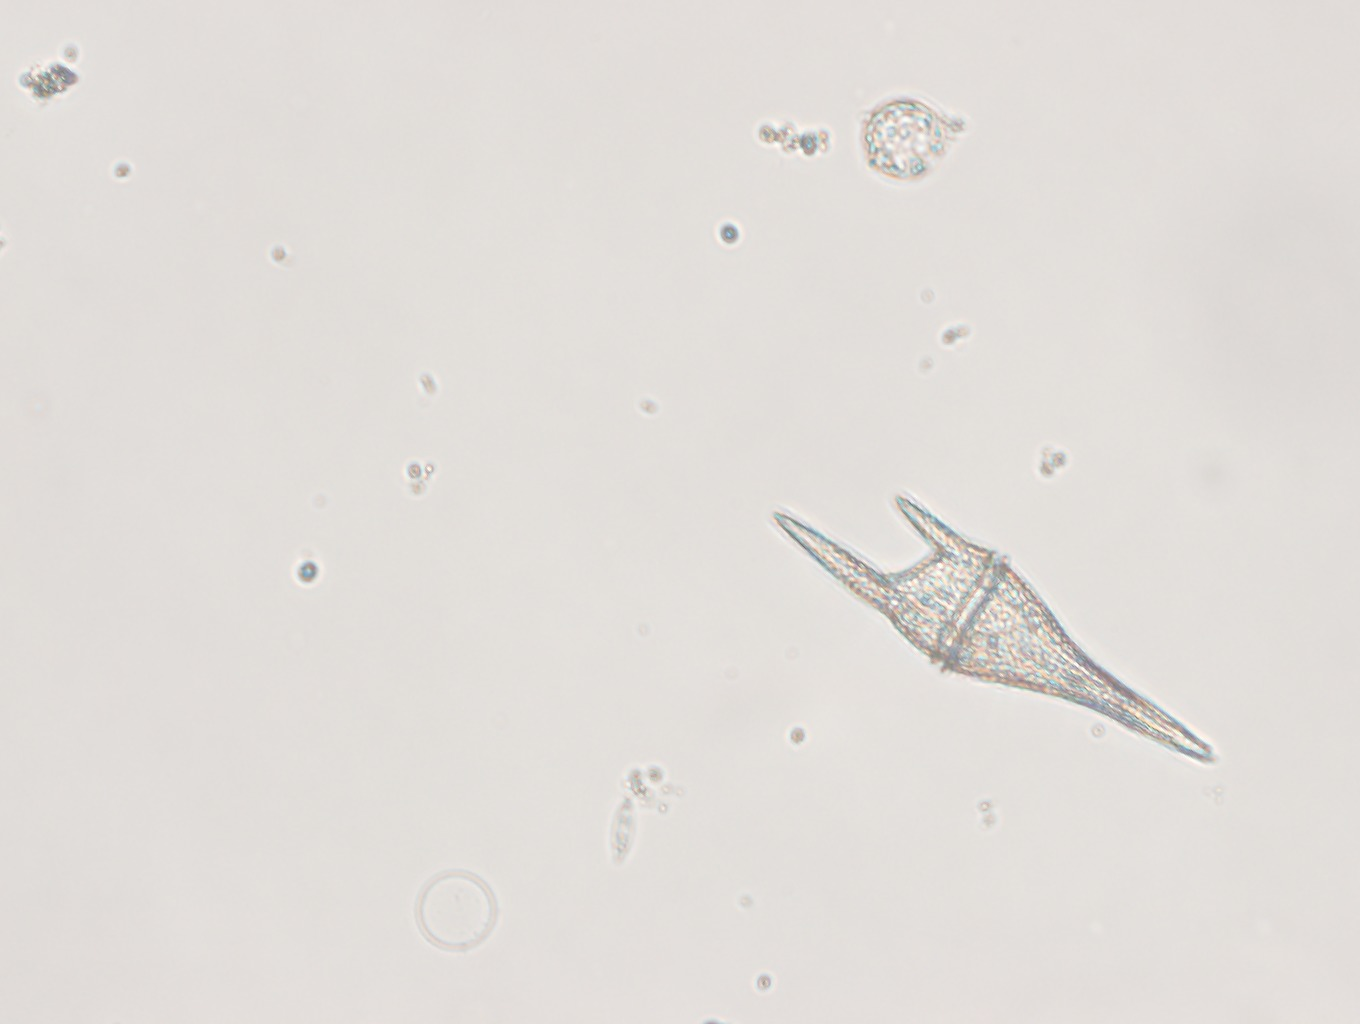ceratium furca: (759, 473, 1226, 782)
